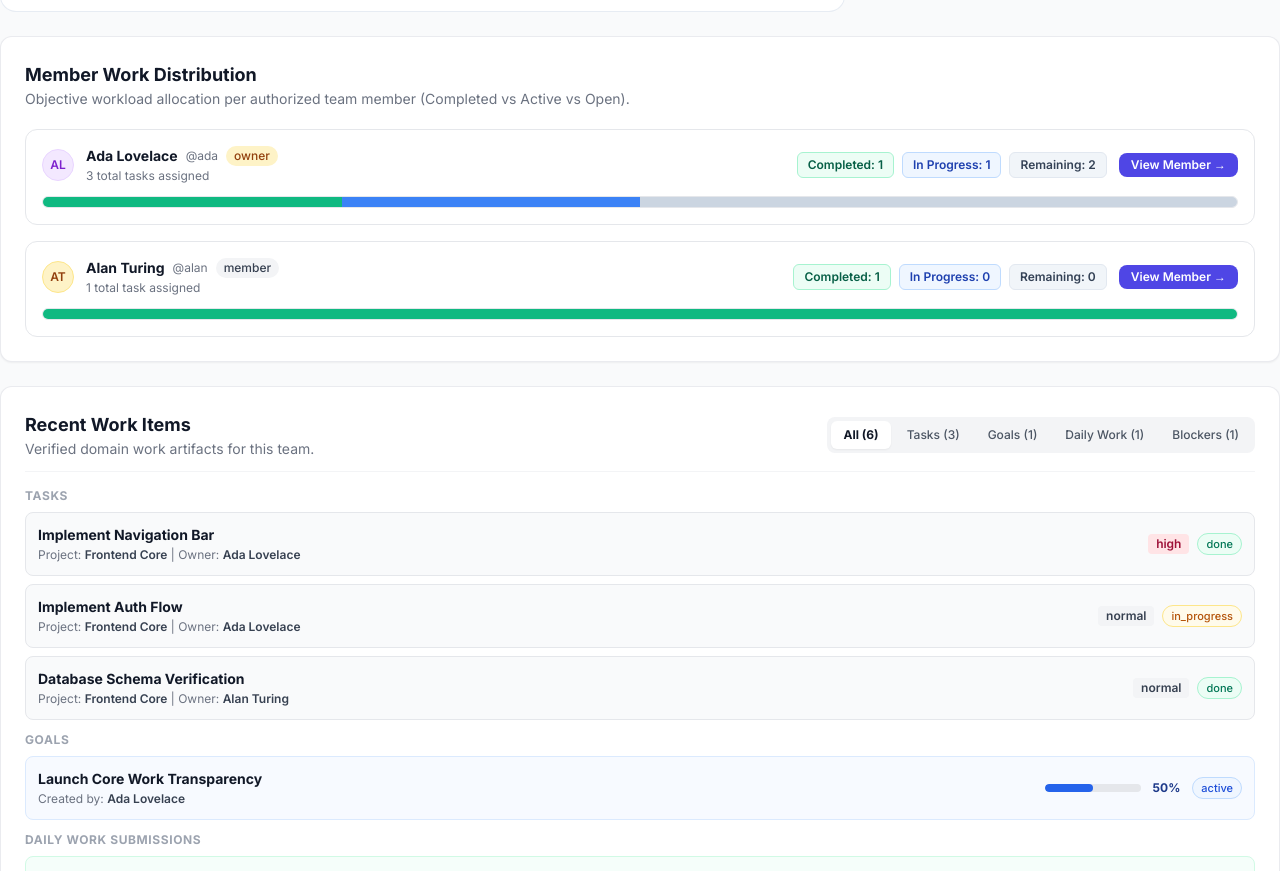
TeamLeaderWorklogDashboard › 11. Allows switching between Work Items filter tabs
The image size is (1280, 871).
(page scrolled)
// Click Tasks filter tab
Click the button "Tasks (3)" at [933, 435], box top-left (895, 421), bottom-right (972, 449)
(page scrolled)
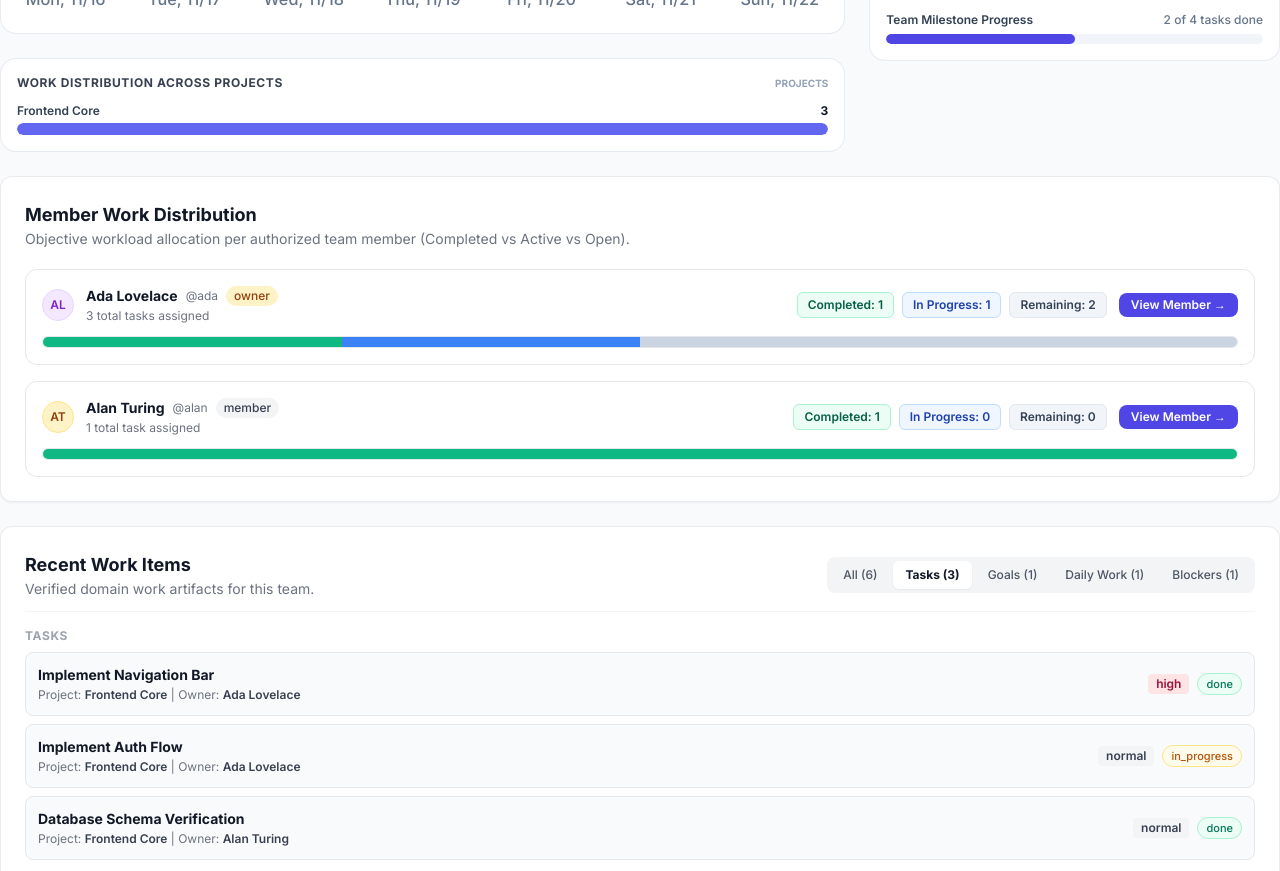
Check: the text "Implement Navigation Bar" is shown, box top-left (38, 666), bottom-right (214, 683)
// Click Blockers filter tab
Click the button "Blockers (1)" at [1206, 575], box top-left (1160, 561), bottom-right (1251, 589)
(page scrolled)
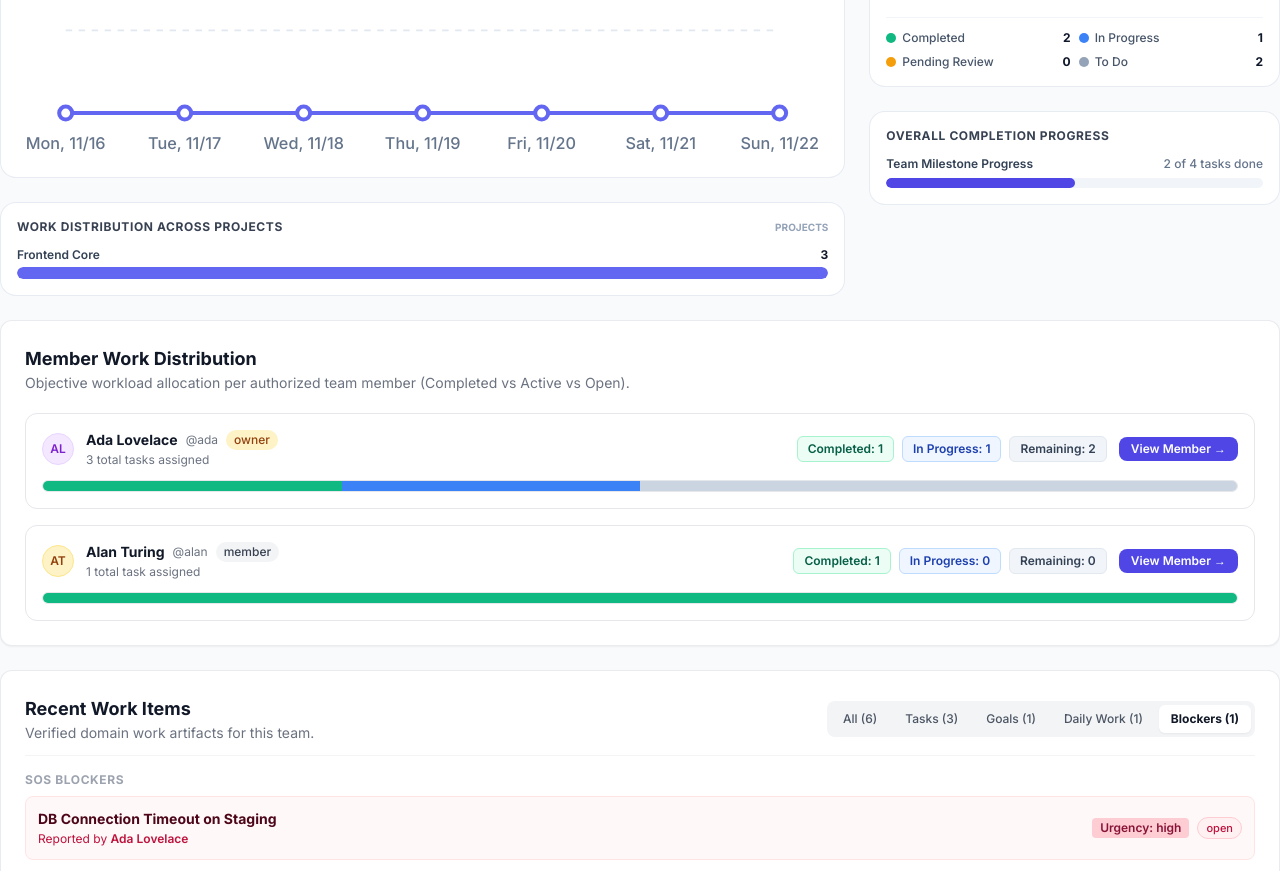
Check: the text "DB Connection Timeout on Staging" is shown, box top-left (38, 809), bottom-right (276, 829)
